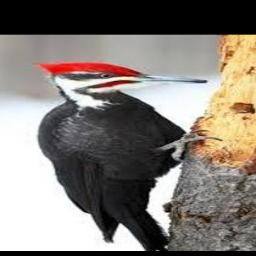Woodpecker: (39, 63, 222, 250)
